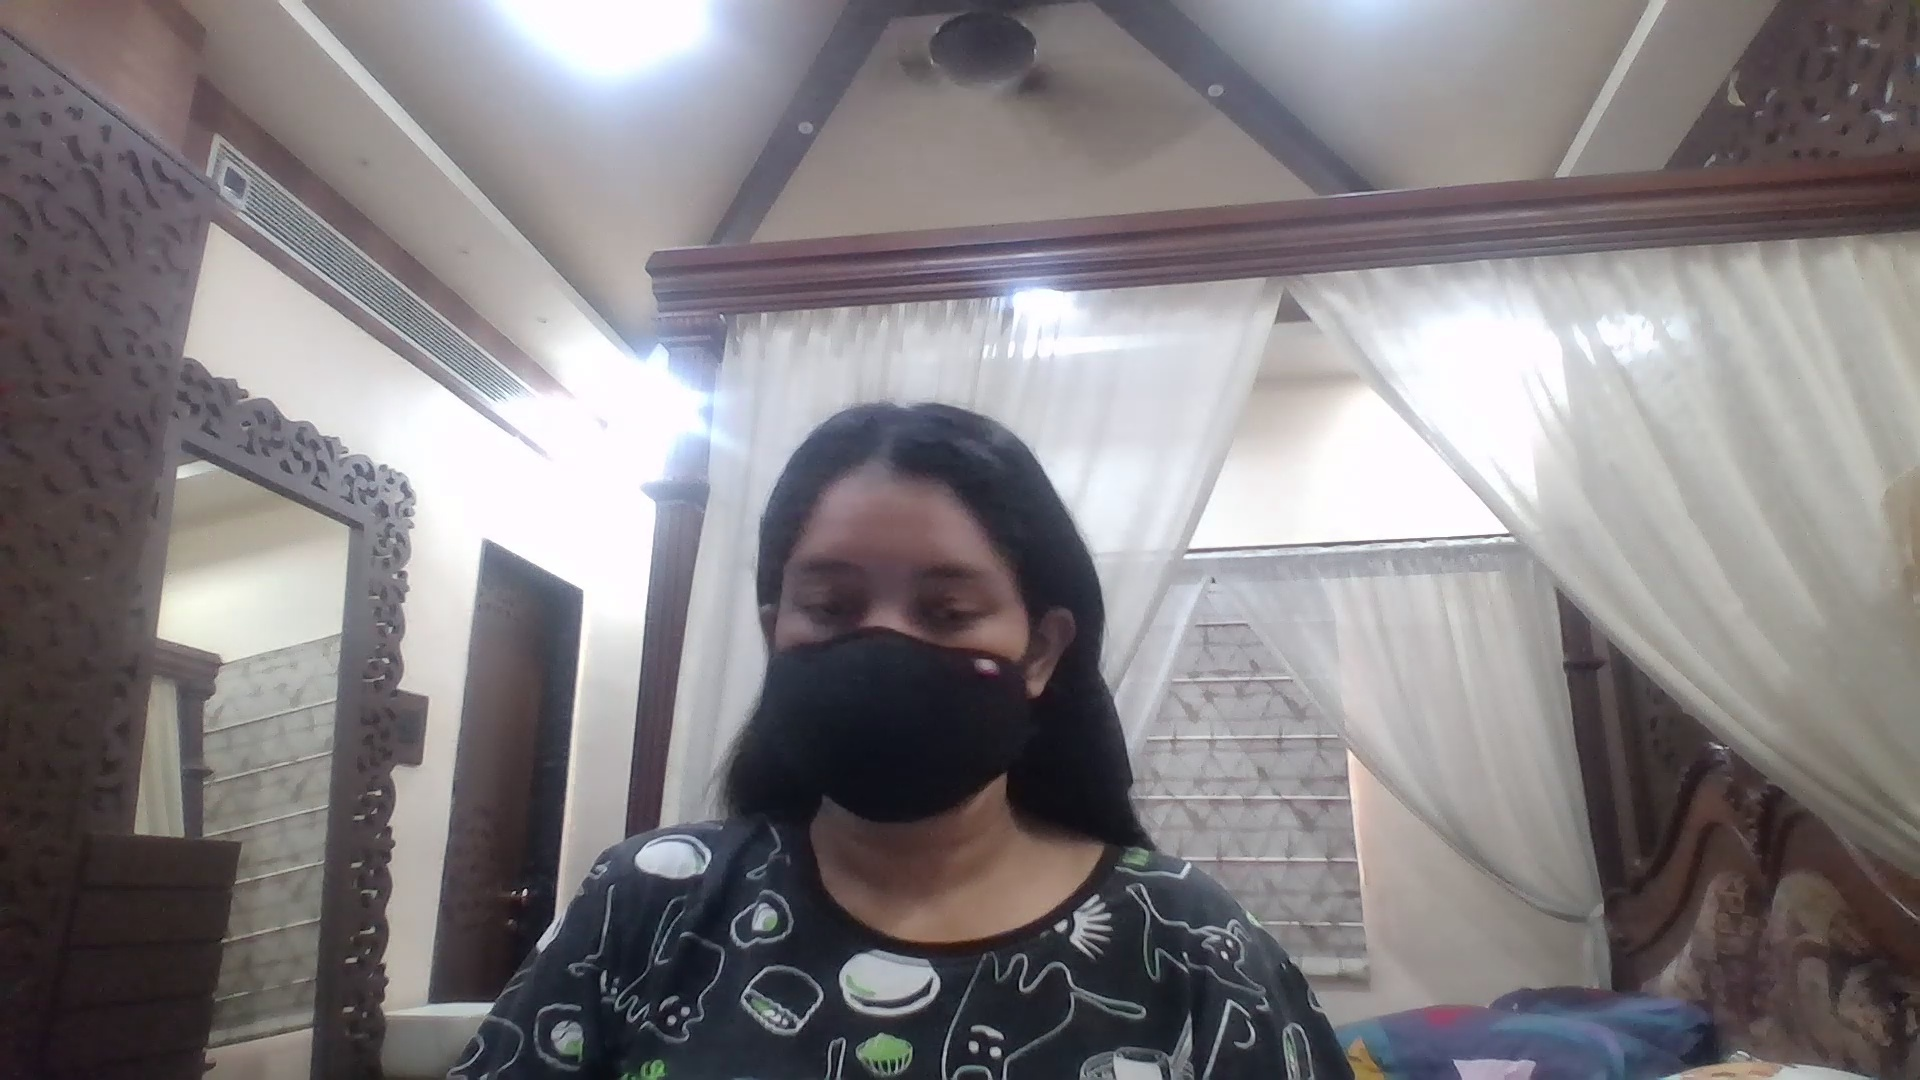Mask: (759, 628, 1035, 822)
